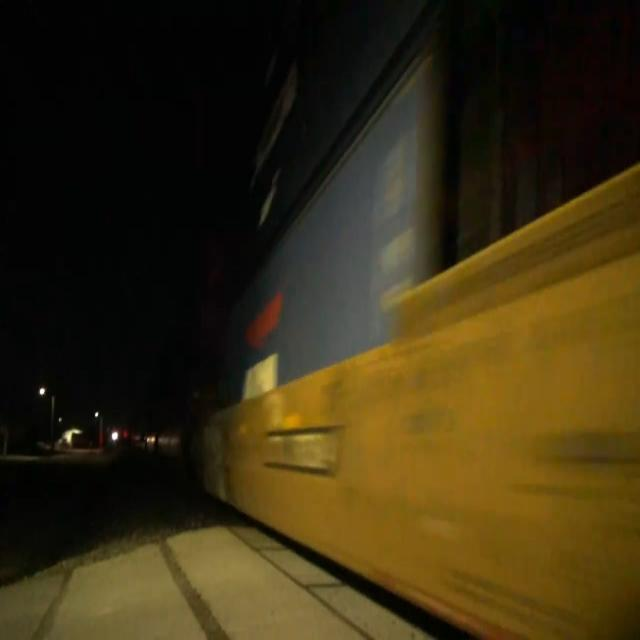container: (209, 48, 575, 424)
flatcar: (188, 167, 640, 640)
